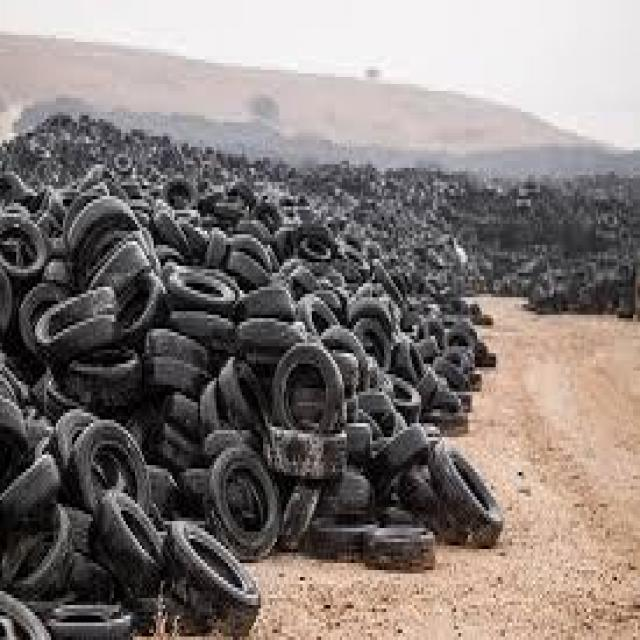Rubber -Non-Biodegradable but Recyclable-: (0, 112, 640, 640)
